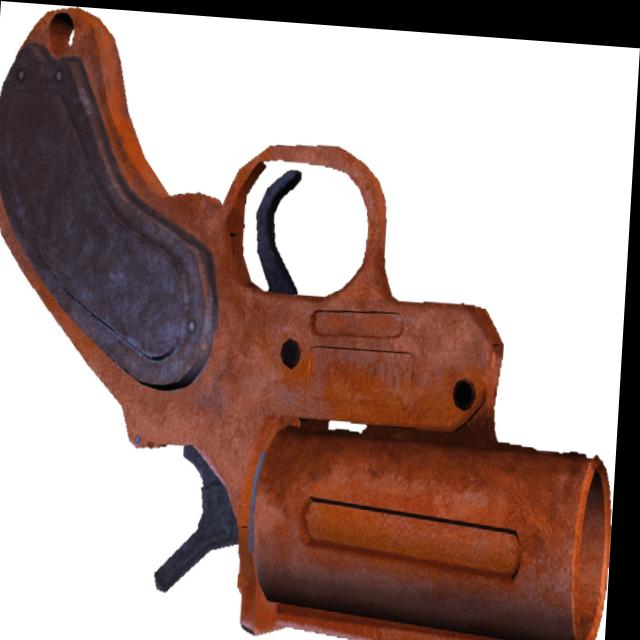handgun: (0, 6, 635, 640)
